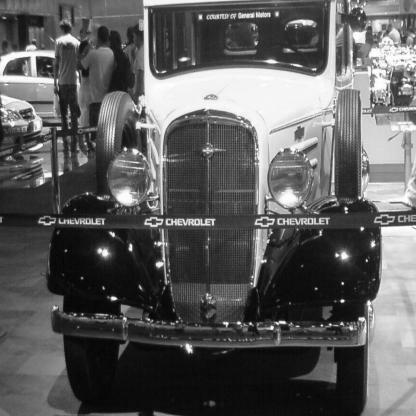car: (43, 1, 395, 411)
